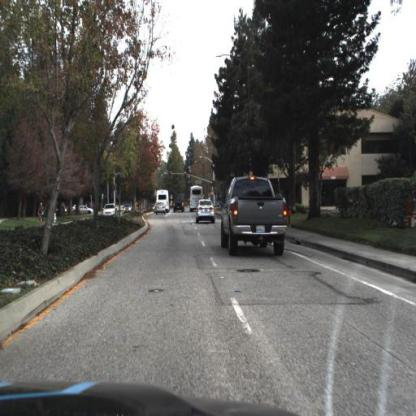biker: (37, 201, 45, 229), (40, 201, 45, 222), (52, 207, 57, 223)
car: (221, 175, 291, 254), (197, 196, 217, 225), (101, 200, 117, 221), (102, 202, 119, 220), (155, 202, 167, 218), (174, 198, 186, 214)
truck: (189, 185, 204, 211), (157, 189, 171, 214)
